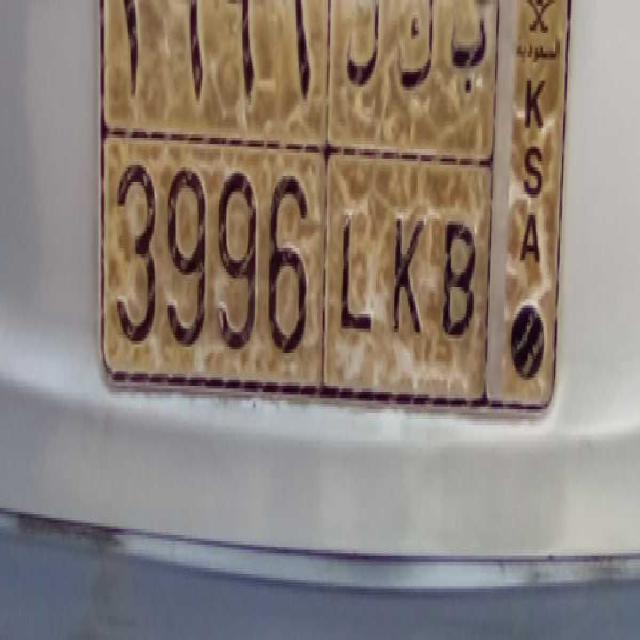license_plate: (113, 130, 483, 420)
